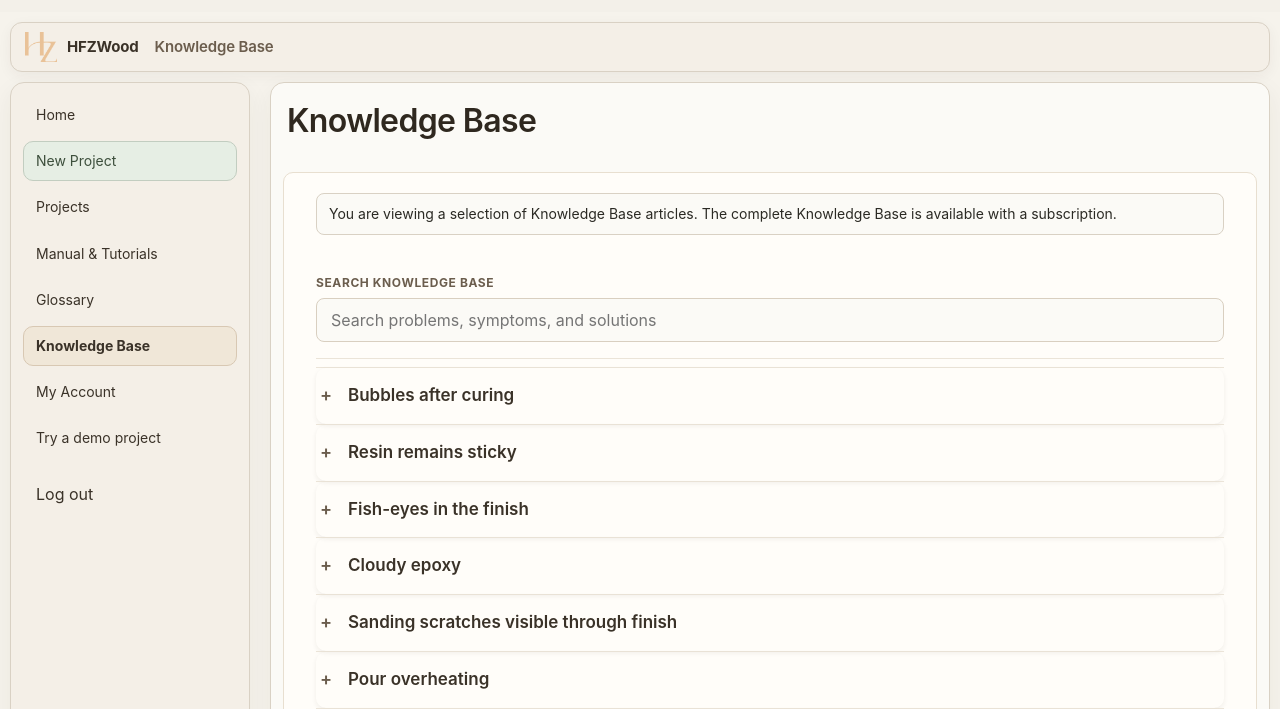
Test: KnowledgeBasePage › keeps a still-matching expanded article open while typing in search
expect the search field labelled "Search knowledge base" is shown: met, box [316, 298, 1224, 342]
Click the button "+ Resin remains sticky". click: (432, 452)
box: [316, 425, 1224, 481]
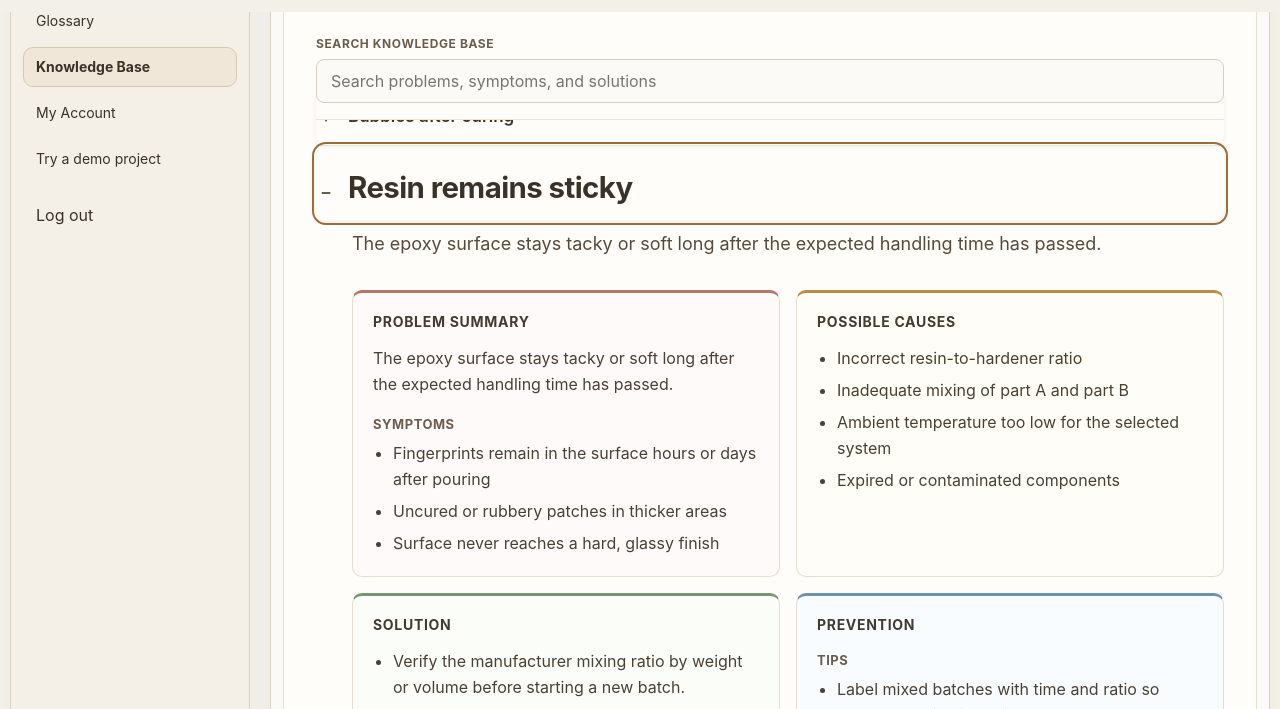
expect the button "− Resin remains sticky" is expanded: met, box [316, 146, 1224, 221]
expect the heading "Solution" is shown: met, box [373, 616, 452, 633]
Type "sticky" into the search field labelled "Search knowledge base". click: (770, 81)
box: [316, 59, 1224, 103]
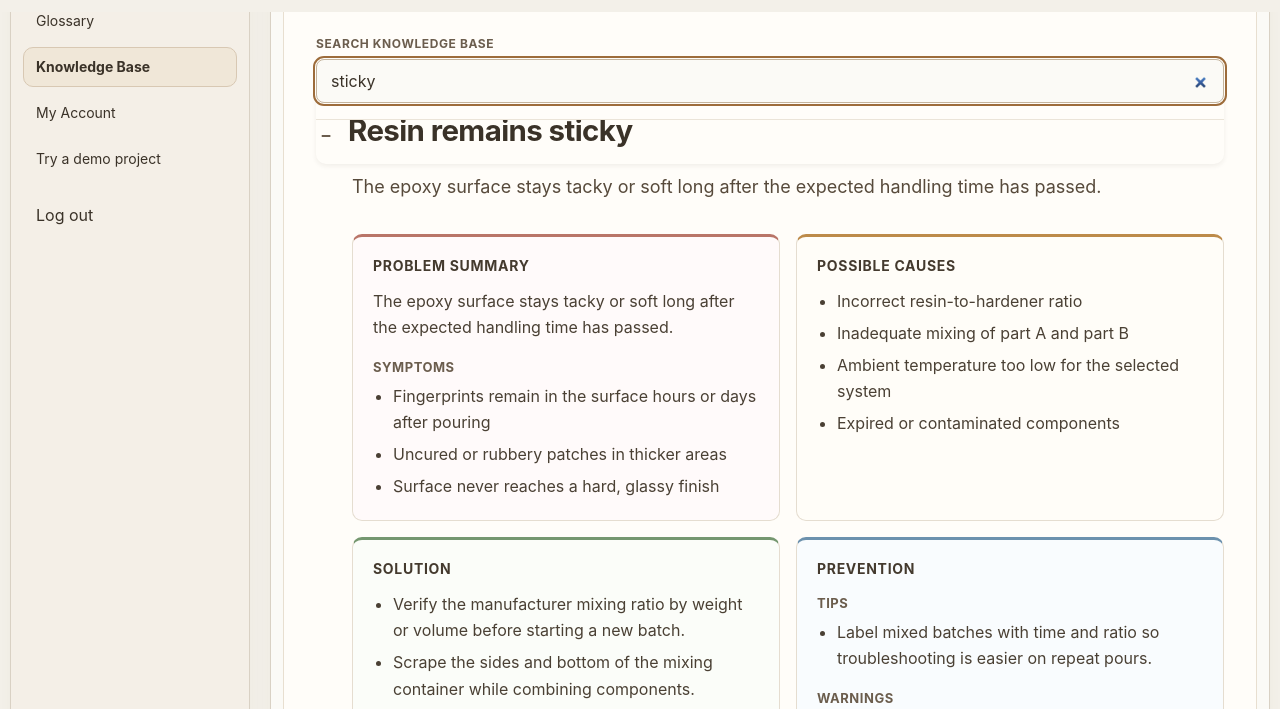
expect the button "− Resin remains sticky" is expanded: met, box [316, 89, 1224, 164]
expect the heading "Solution" is shown: met, box [373, 560, 452, 576]
expect the button "Bubbles after curing" is gone: met
